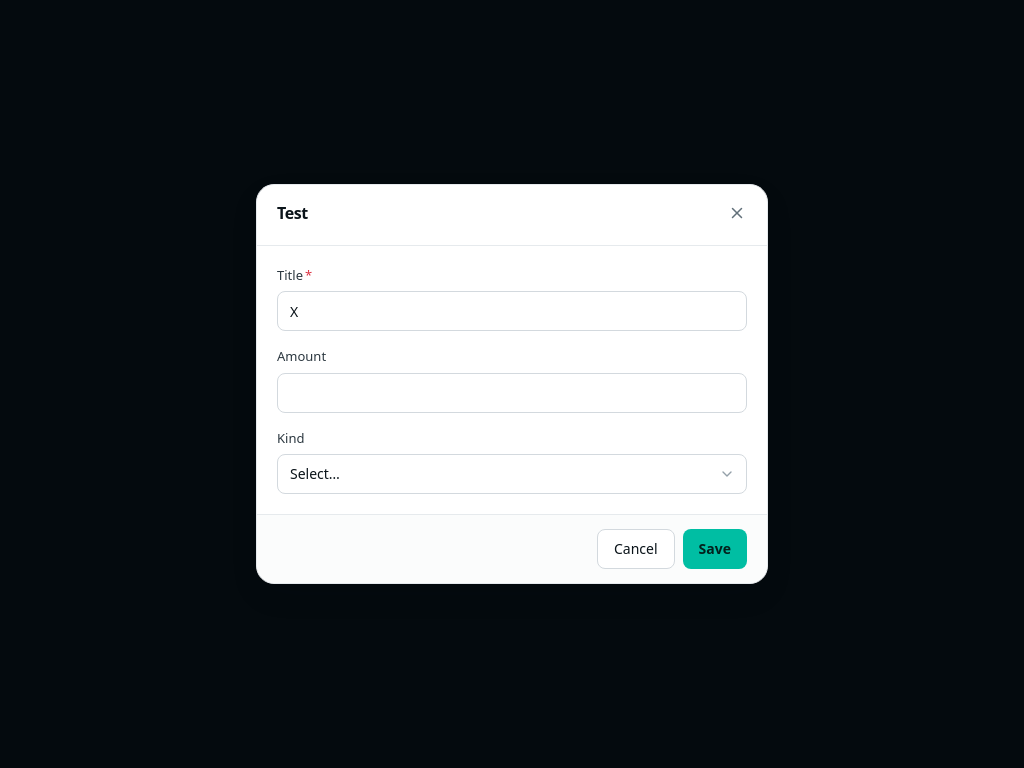
Test: FormModal › shows server errors without closing
Step 1. Click the button "Save" → (715, 549), box [683,529,747,569]
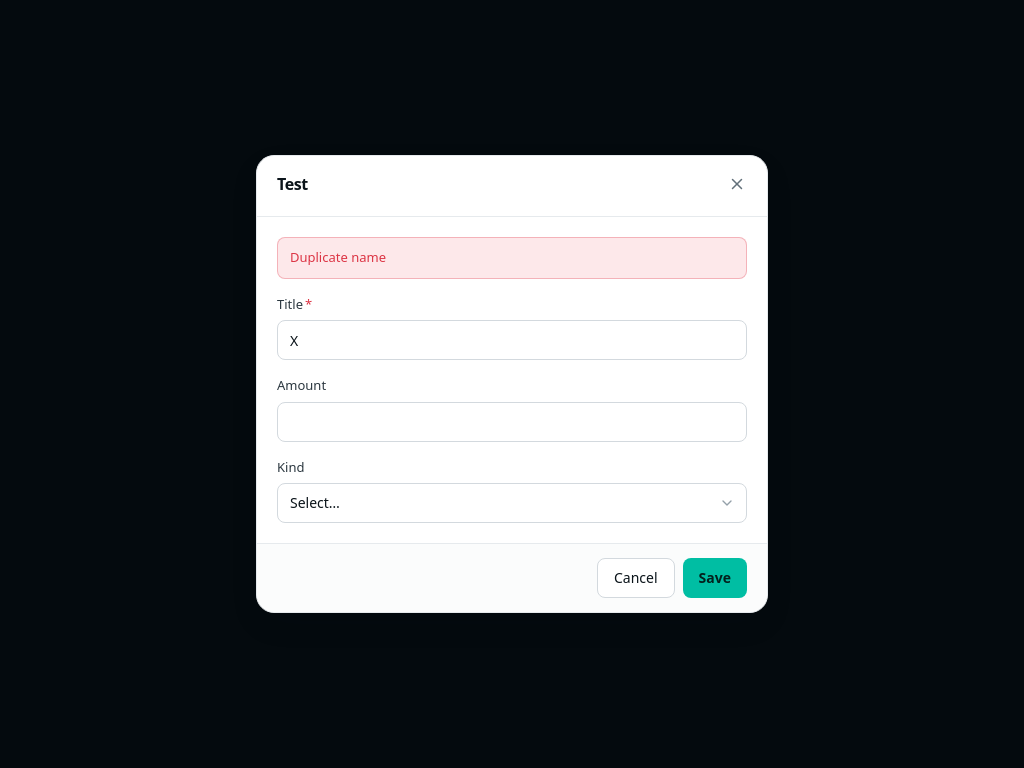
Check: the text "Duplicate name" is shown, box [277,237,747,278]
